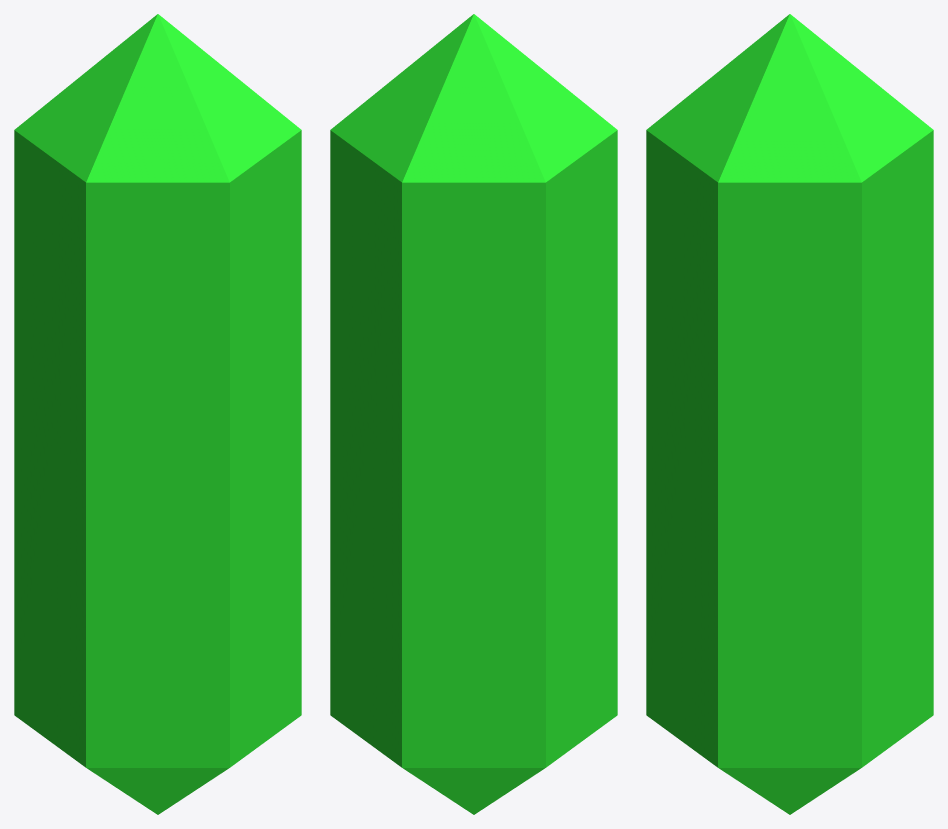
File: CristalVerde.glb
3 views of the same model, side by side, from view 1: azimuth 30°, elevation 25°; view 2: azimuth 150°, elevation 25°; view 3: azimuth 270°, elevation 25° (orthographic).
Parts seen in each view (by area): view 1: Cylinder; view 2: Cylinder; view 3: Cylinder.
Boxes of the visible parts, left/top/right/bottom form: Cylinder: left=14, top=14, right=301, bottom=814; Cylinder: left=330, top=14, right=617, bottom=814; Cylinder: left=646, top=14, right=933, bottom=814.
Bounding box in the file's own units: 1.76 × 6.24 × 2.03.
